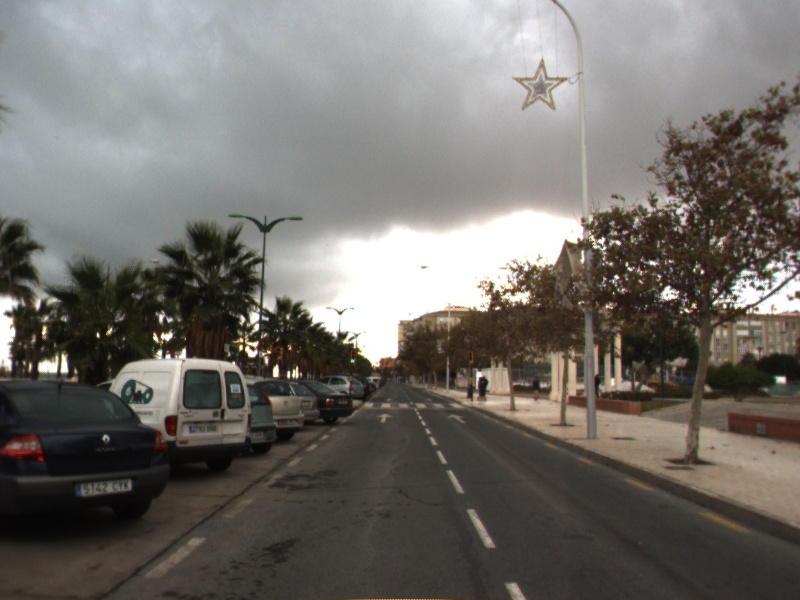STRAIGHT: (446, 412, 469, 425), (375, 412, 395, 425)
